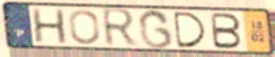B: (210, 12, 244, 51)
D: (171, 10, 209, 49)
G: (137, 8, 175, 50)
H: (31, 8, 70, 45)
O: (67, 8, 102, 46)
R: (99, 7, 139, 49)
